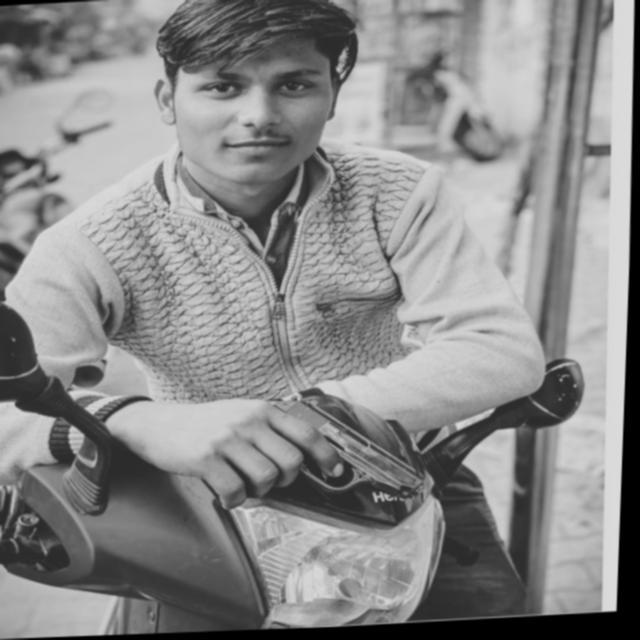weapon: (196, 384, 438, 524)
